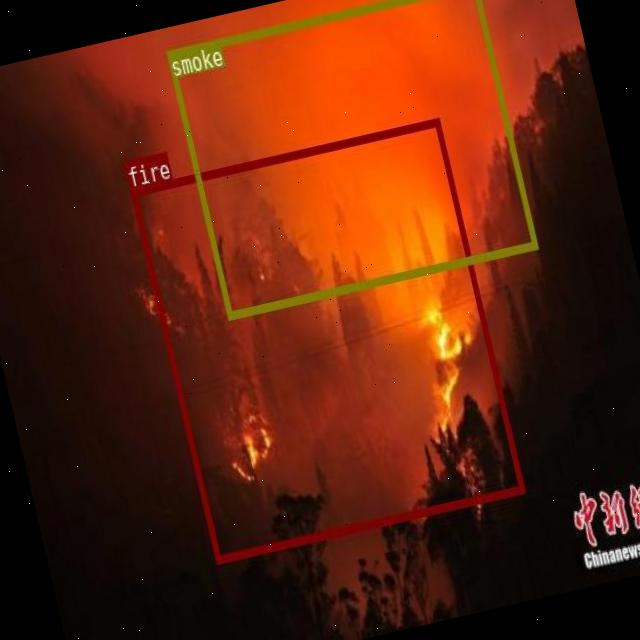fire: (128, 116, 524, 562)
smoke: (164, 0, 536, 317)
